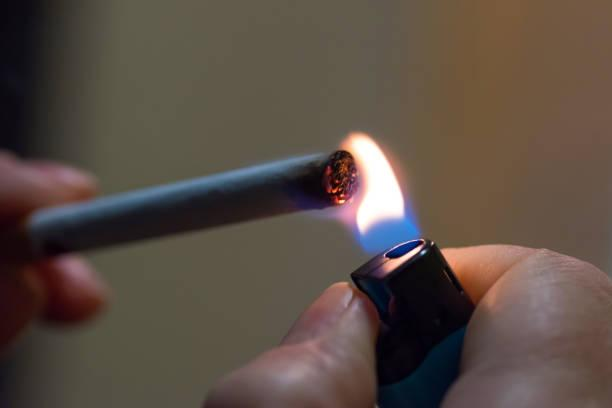Fire: (344, 130, 424, 253)
